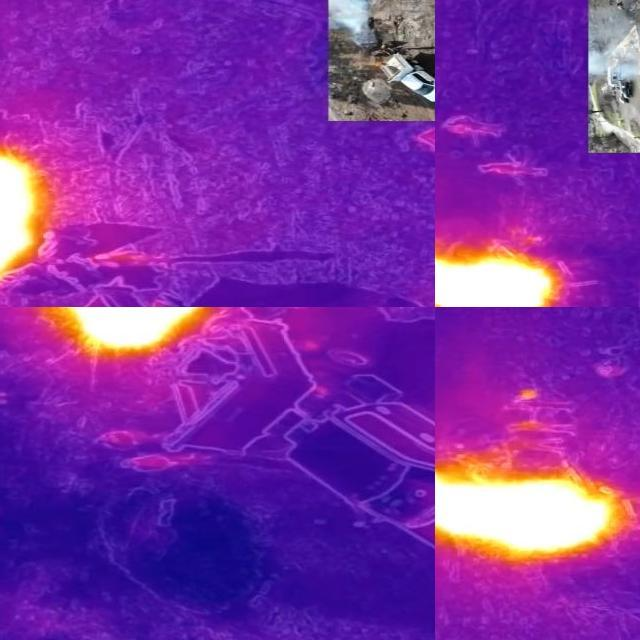fire: (436, 463, 616, 559), (6, 308, 218, 357), (436, 244, 562, 308), (1, 138, 48, 290)
